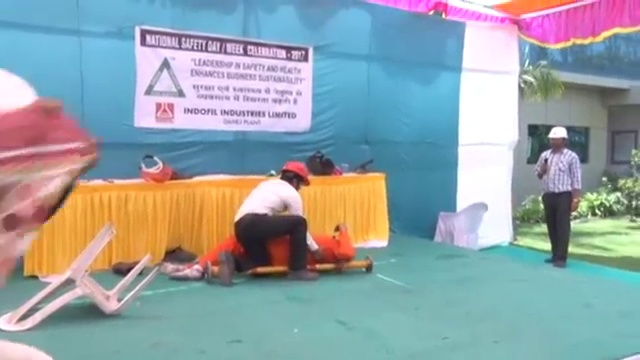helmet: (283, 160, 311, 188), (546, 125, 569, 139)
helmet_on: (279, 159, 311, 193), (546, 124, 571, 154)
person: (221, 160, 318, 286), (161, 224, 360, 280), (531, 123, 583, 271)
